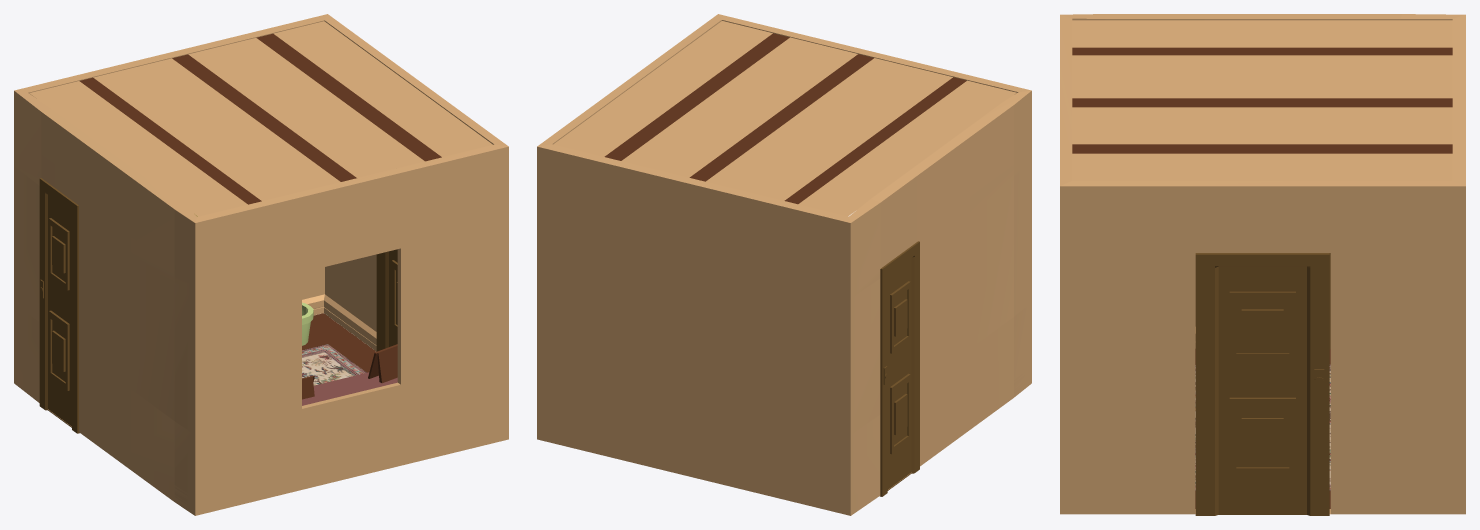
The model's file is Hall.glb.
3 renders of one model, left to right at view 1: azimuth 30°, elevation 25°; view 2: azimuth 150°, elevation 25°; view 3: azimuth 270°, elevation 25°, orthographic. The views are drawn at different scales.
Parts seen in each view (by area): view 1: S_LowHall, S_Door, S_Door.001, S_Carpet.002, S_LowBuffet.001, S_LowFrame_04; view 2: S_LowHall, S_Door; view 3: S_LowHall, S_Door.001.
Boxes of the visible parts, x1,y1,x2,y2 form: S_LowHall: (14,14,508,515); S_Door: (39,178,79,433); S_Door.001: (376,249,397,351); S_Carpet.002: (302,344,366,385); S_LowBuffet.001: (302,372,397,405); S_LowFrame_04: (368,344,397,383); S_LowHall: (537,14,1031,515); S_Door: (880,241,919,496); S_LowHall: (1060,14,1465,514); S_Door.001: (1195,253,1329,515).
Size of the model in its own units: 3.29 by 2.86 by 3.19.
Materials: 29 (1 with a texture image).
